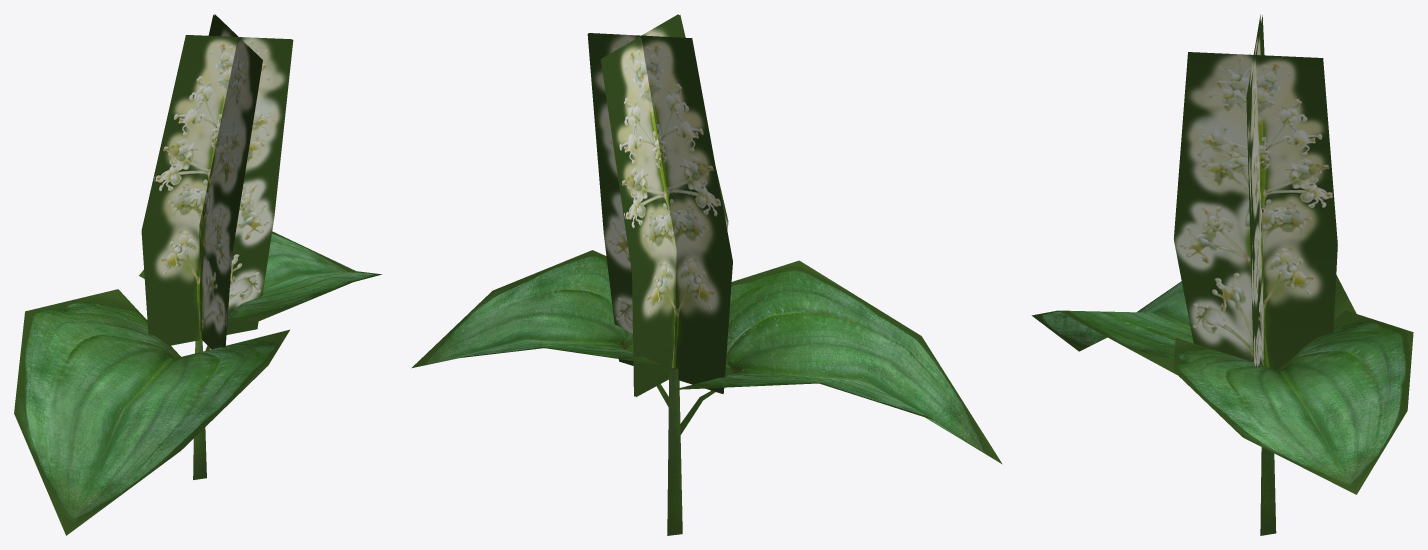
File: Maianthemum bifolium_m.FBX
The picture shows the model from 3 angles, left to right: view 1: azimuth 30°, elevation 25°; view 2: azimuth 150°, elevation 25°; view 3: azimuth 270°, elevation 25°; orthographic projection. The views are drawn at different scales.
Visible parts, largest first — view 1: Maianthemum_bifolium; view 2: Maianthemum_bifolium; view 3: Maianthemum_bifolium.
Part boxes in pixels (x1,y1,x2,y2): Maianthemum_bifolium: [14, 14, 382, 535]; Maianthemum_bifolium: [411, 14, 1002, 535]; Maianthemum_bifolium: [1031, 14, 1413, 535].
Size of the model in its own units: 29.36 by 30.51 by 20.68.
